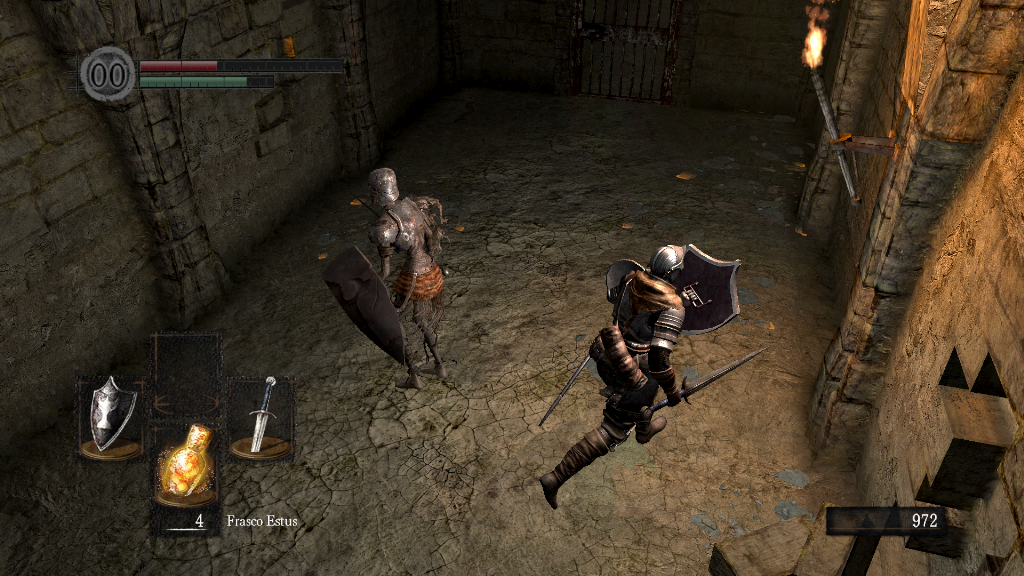health: (138, 58, 343, 71)
humanity: (80, 45, 136, 102)
player: (538, 244, 764, 510)
souls: (825, 506, 945, 536)
stamina: (138, 74, 274, 88)
undeadSoldier: (363, 168, 452, 387)
